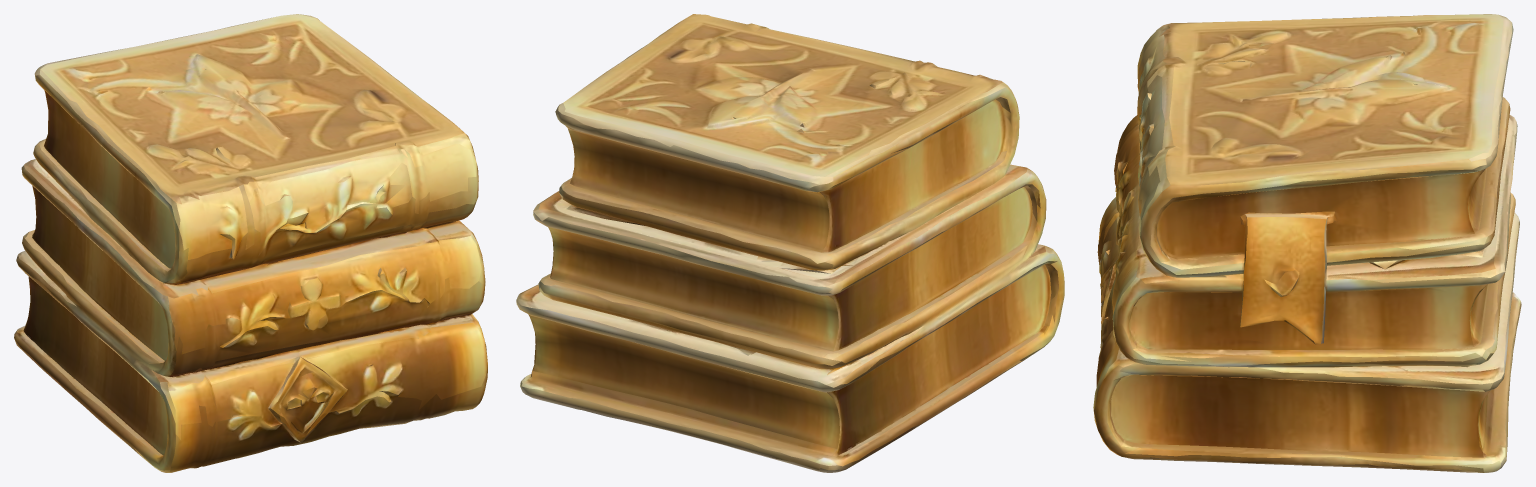
File: book-gold.glb
The picture shows the model from 3 angles, left to right: view 1: azimuth 30°, elevation 25°; view 2: azimuth 150°, elevation 25°; view 3: azimuth 270°, elevation 25°; orthographic projection. The views are drawn at different scales.
Visible parts, largest first — view 1: geometry_0; view 2: geometry_0; view 3: geometry_0.
Boxes of the visible parts, <box> form: geometry_0: <box>14,14,487,472</box>; geometry_0: <box>516,14,1064,472</box>; geometry_0: <box>1093,14,1521,472</box>.
Size of the model in its own units: 0.22 by 0.1708 by 0.2138.
Materials: 1 (1 with a texture image).
